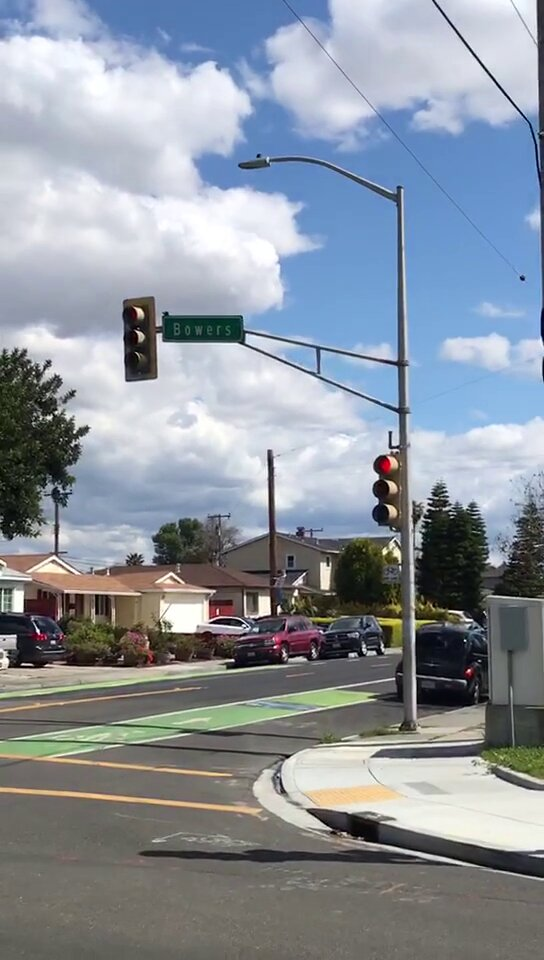red_light: (373, 453, 397, 528)
